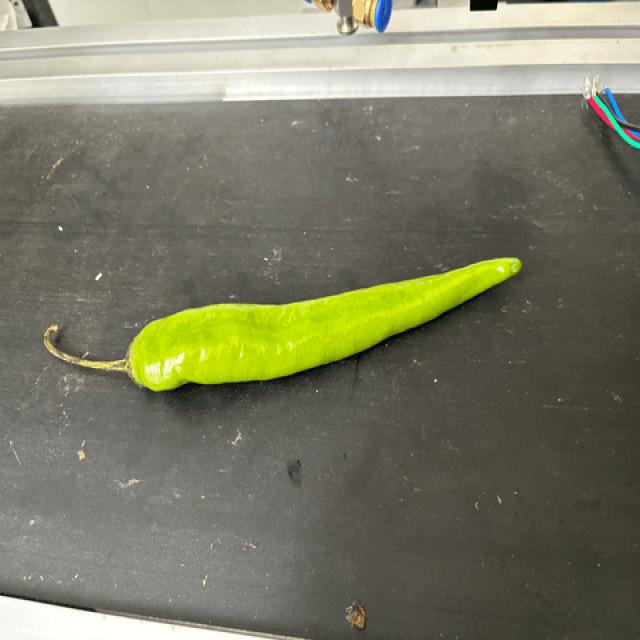chili: (121, 255, 526, 394)
